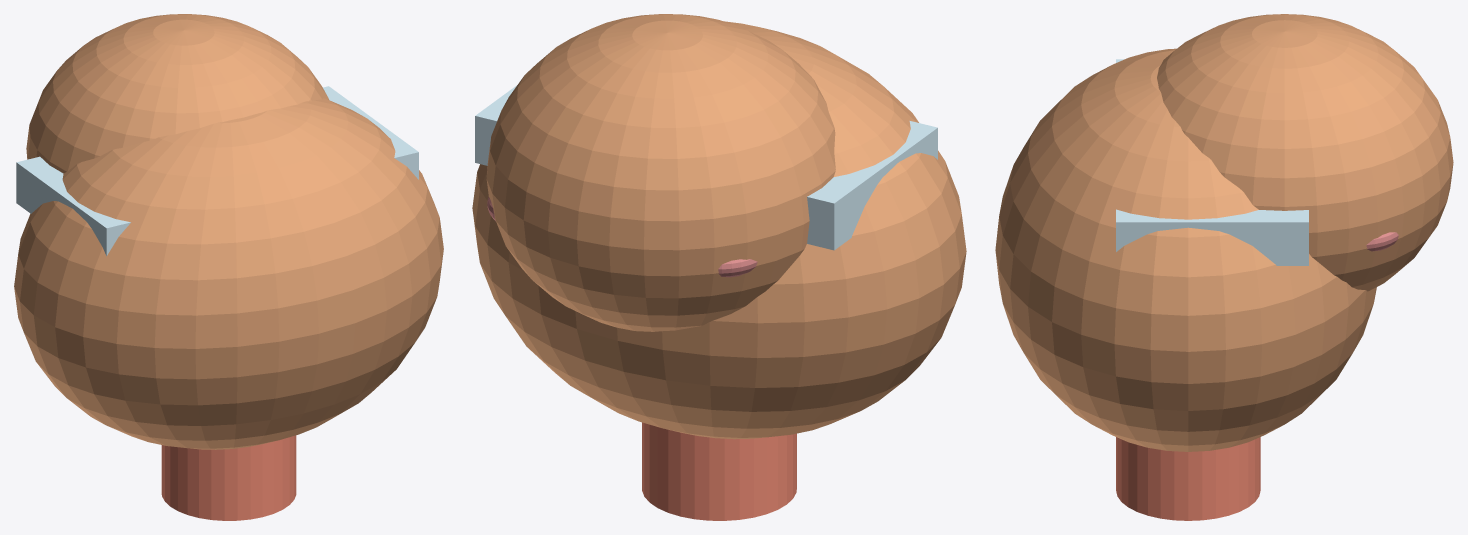
The model's file is 0rocket_wombat.glb.
3 views of the same model, side by side, from view 1: azimuth 30°, elevation 25°; view 2: azimuth 150°, elevation 25°; view 3: azimuth 270°, elevation 25° (orthographic). The views are drawn at different scales.
Visible parts, largest first — view 1: rocket_wombat; view 2: rocket_wombat; view 3: rocket_wombat.
Boxes of the visible parts, <box> form: rocket_wombat: <box>14,14,443,520</box>; rocket_wombat: <box>472,14,966,520</box>; rocket_wombat: <box>995,14,1453,520</box>.
Size of the model in its own units: 2 by 2.1 by 1.9.
